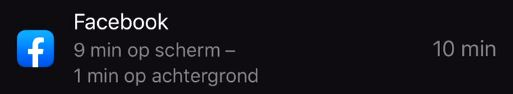name: (67, 6, 174, 36)
time: (71, 37, 128, 62), (73, 63, 121, 91)
